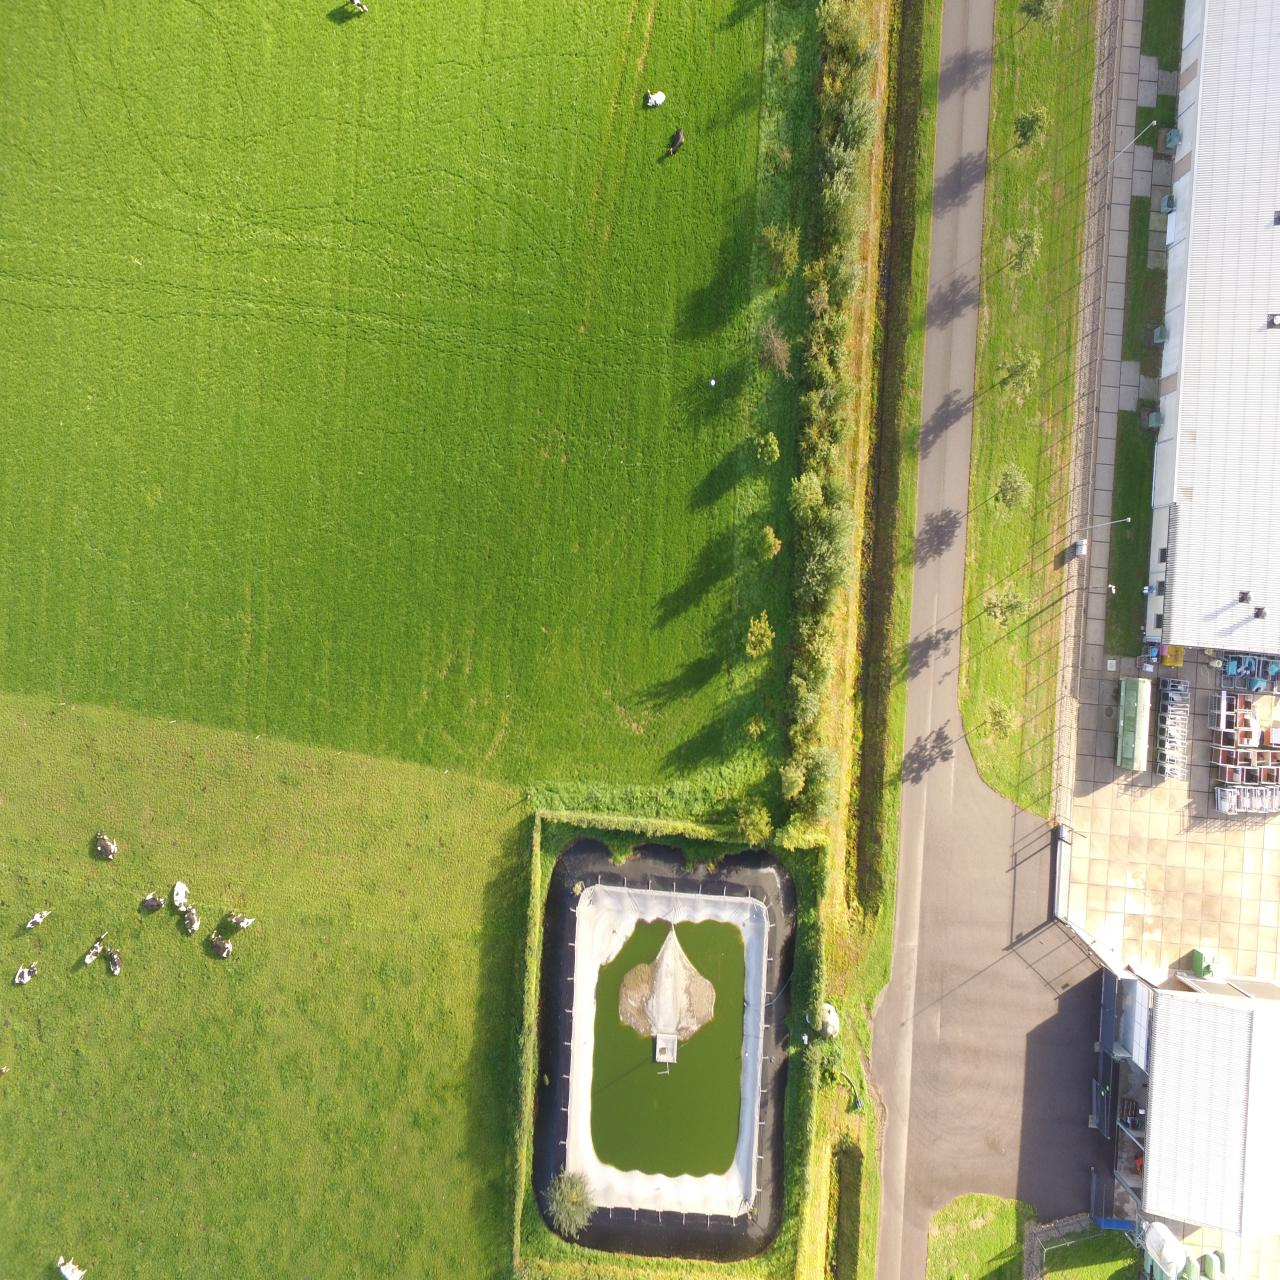cow: (79, 928, 110, 965), (89, 831, 123, 863), (53, 1253, 87, 1280), (165, 877, 189, 915), (209, 928, 236, 961), (12, 958, 39, 989), (103, 945, 125, 978), (182, 901, 202, 935), (225, 907, 257, 928), (668, 125, 687, 161), (137, 892, 165, 914), (26, 907, 49, 930), (641, 89, 667, 108)
